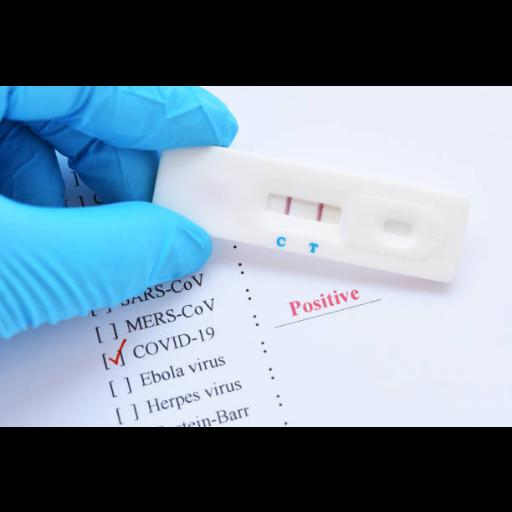Pos: (149, 138, 472, 283)
